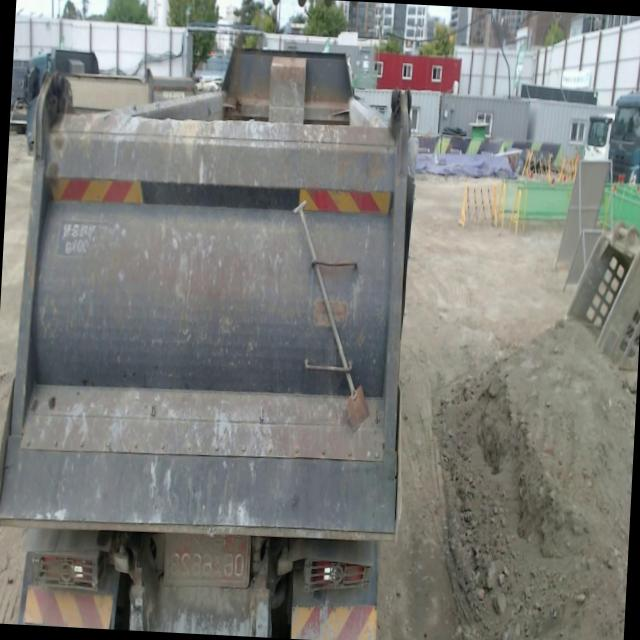white-sand: (378, 176, 571, 640), (433, 322, 636, 640), (0, 134, 32, 444), (0, 528, 24, 625)
